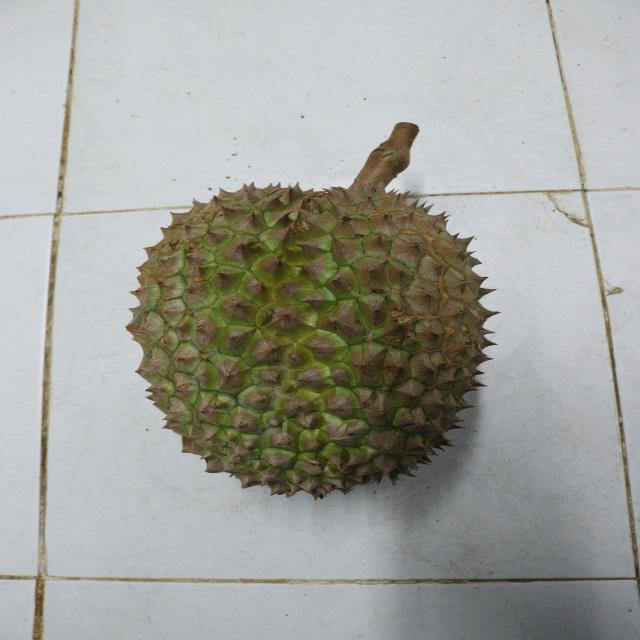mature: (124, 177, 495, 501)
